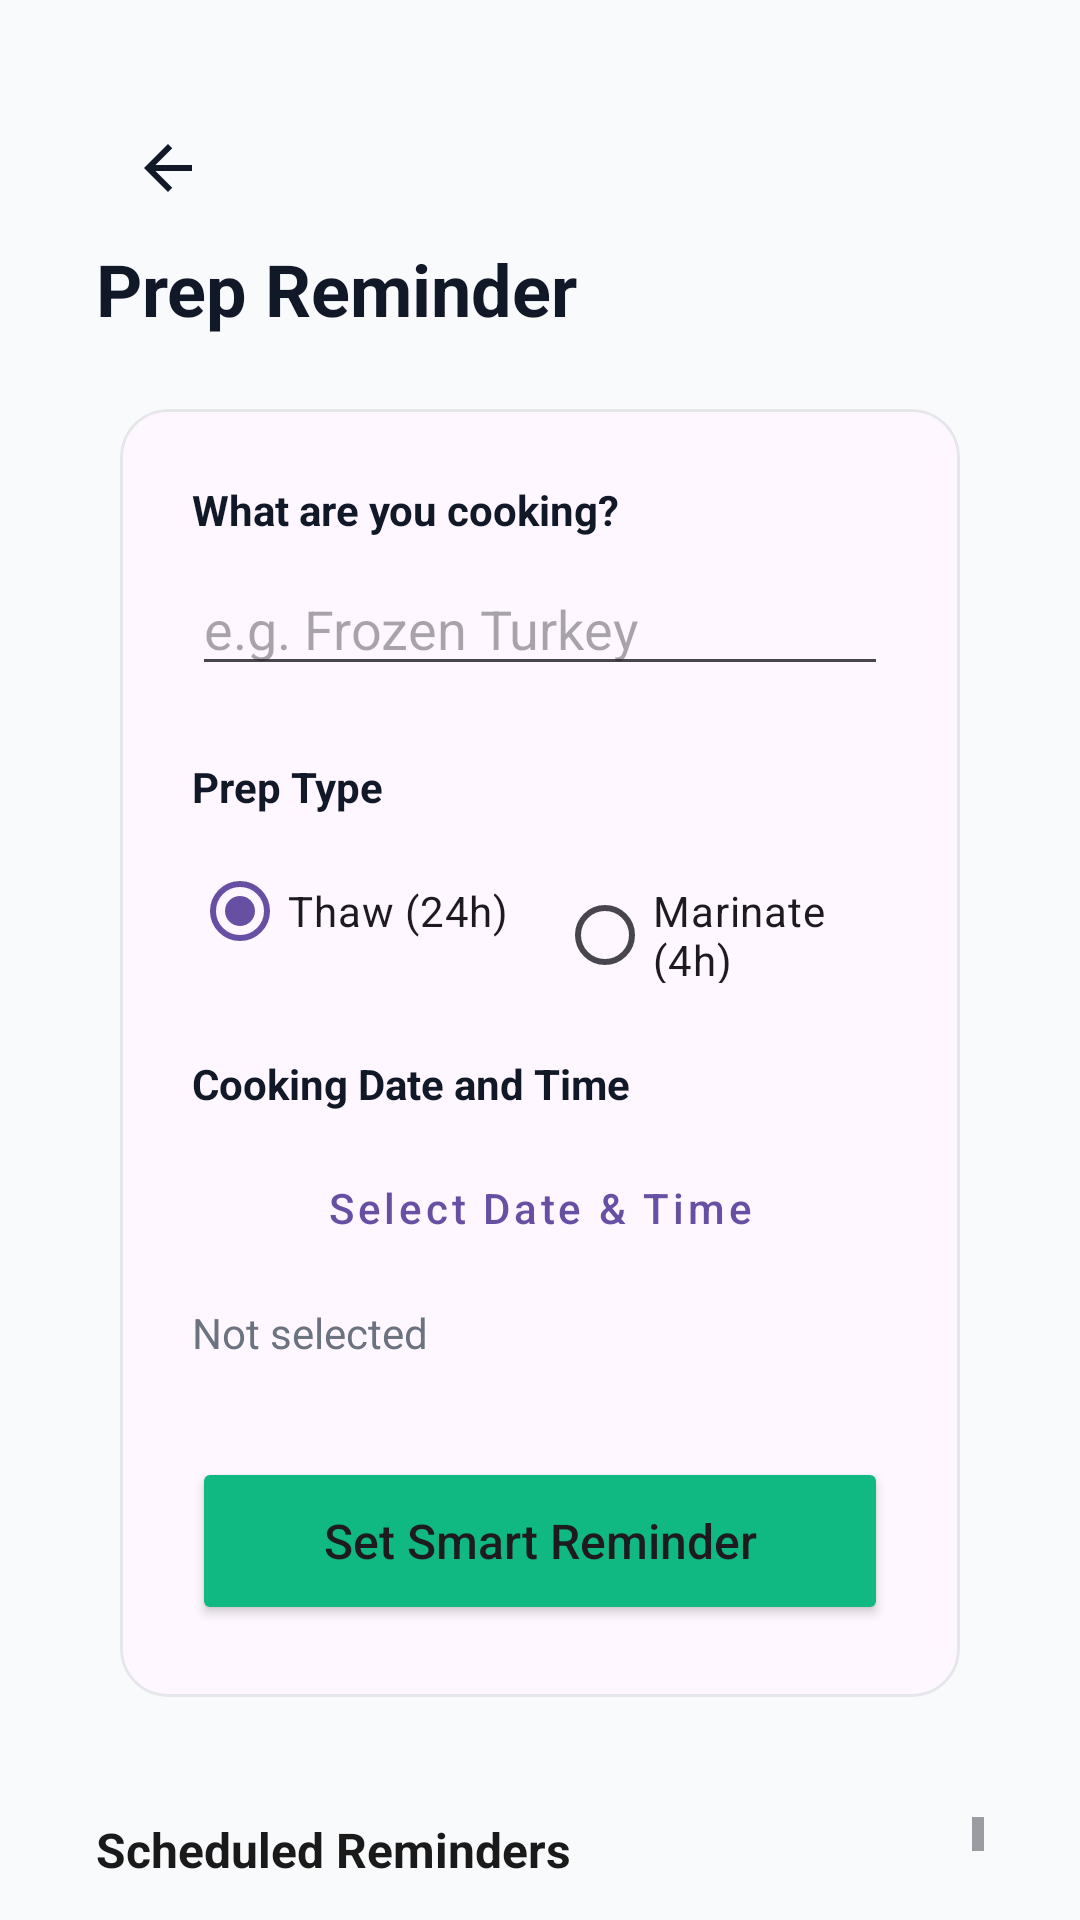

Named icons in this screenshot (1080w x 1920h) and their bounding boxes, (x1, y1, x2, y2):
arrow back: (144, 144, 192, 192)
